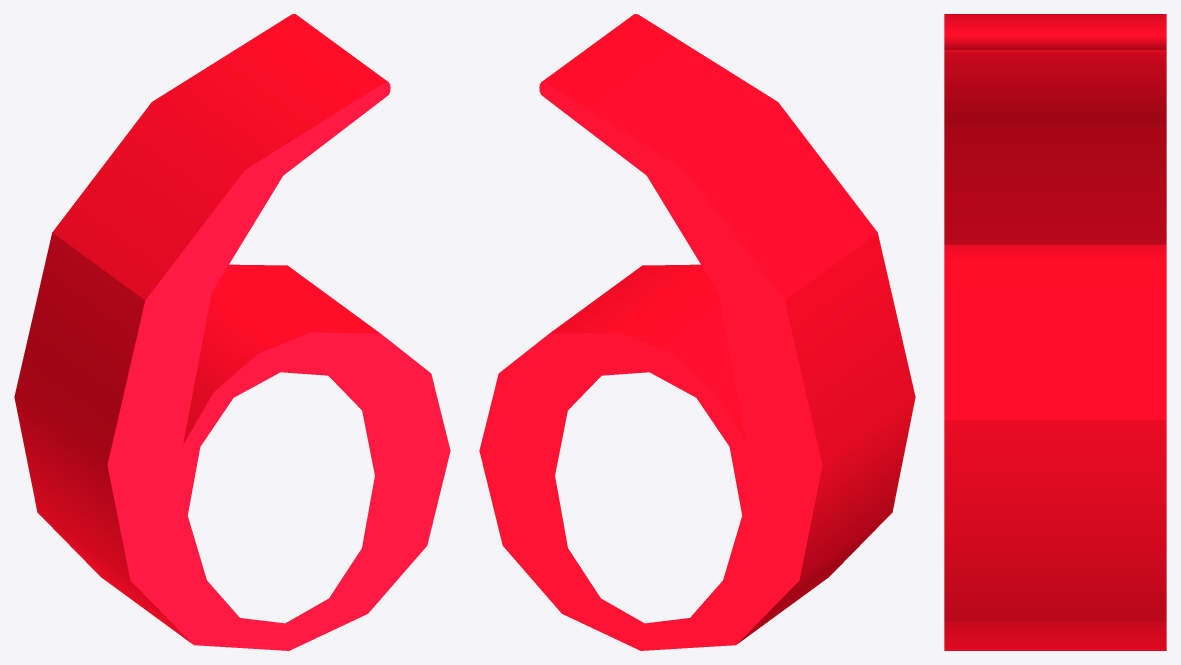
3 views of the same model, side by side, from view 1: azimuth 30°, elevation 25°; view 2: azimuth 150°, elevation 25°; view 3: azimuth 270°, elevation 25° (orthographic). The views are drawn at different scales.
Visible parts, largest first — view 1: 6_Soul_Red; view 2: 6_Soul_Red; view 3: 6_Soul_Red.
Boxes of the visible parts, x1,y1,x2,y2 form: 6_Soul_Red: [14, 14, 450, 650]; 6_Soul_Red: [479, 14, 915, 650]; 6_Soul_Red: [944, 14, 1166, 650].
Size of what is drawn, in the model's own units: 0.0958 by 0.1455 by 0.045.
Materials: 2 (2 with a texture image).
